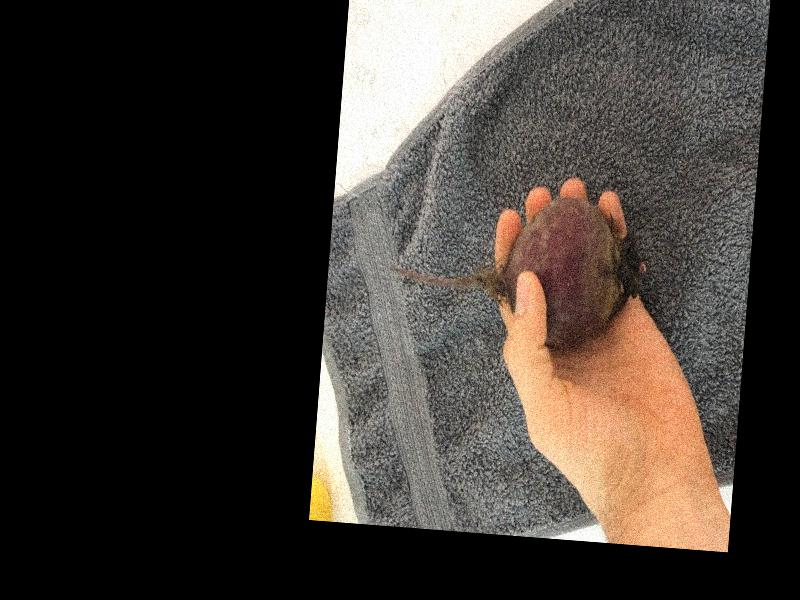Beet: (385, 182, 645, 354)
